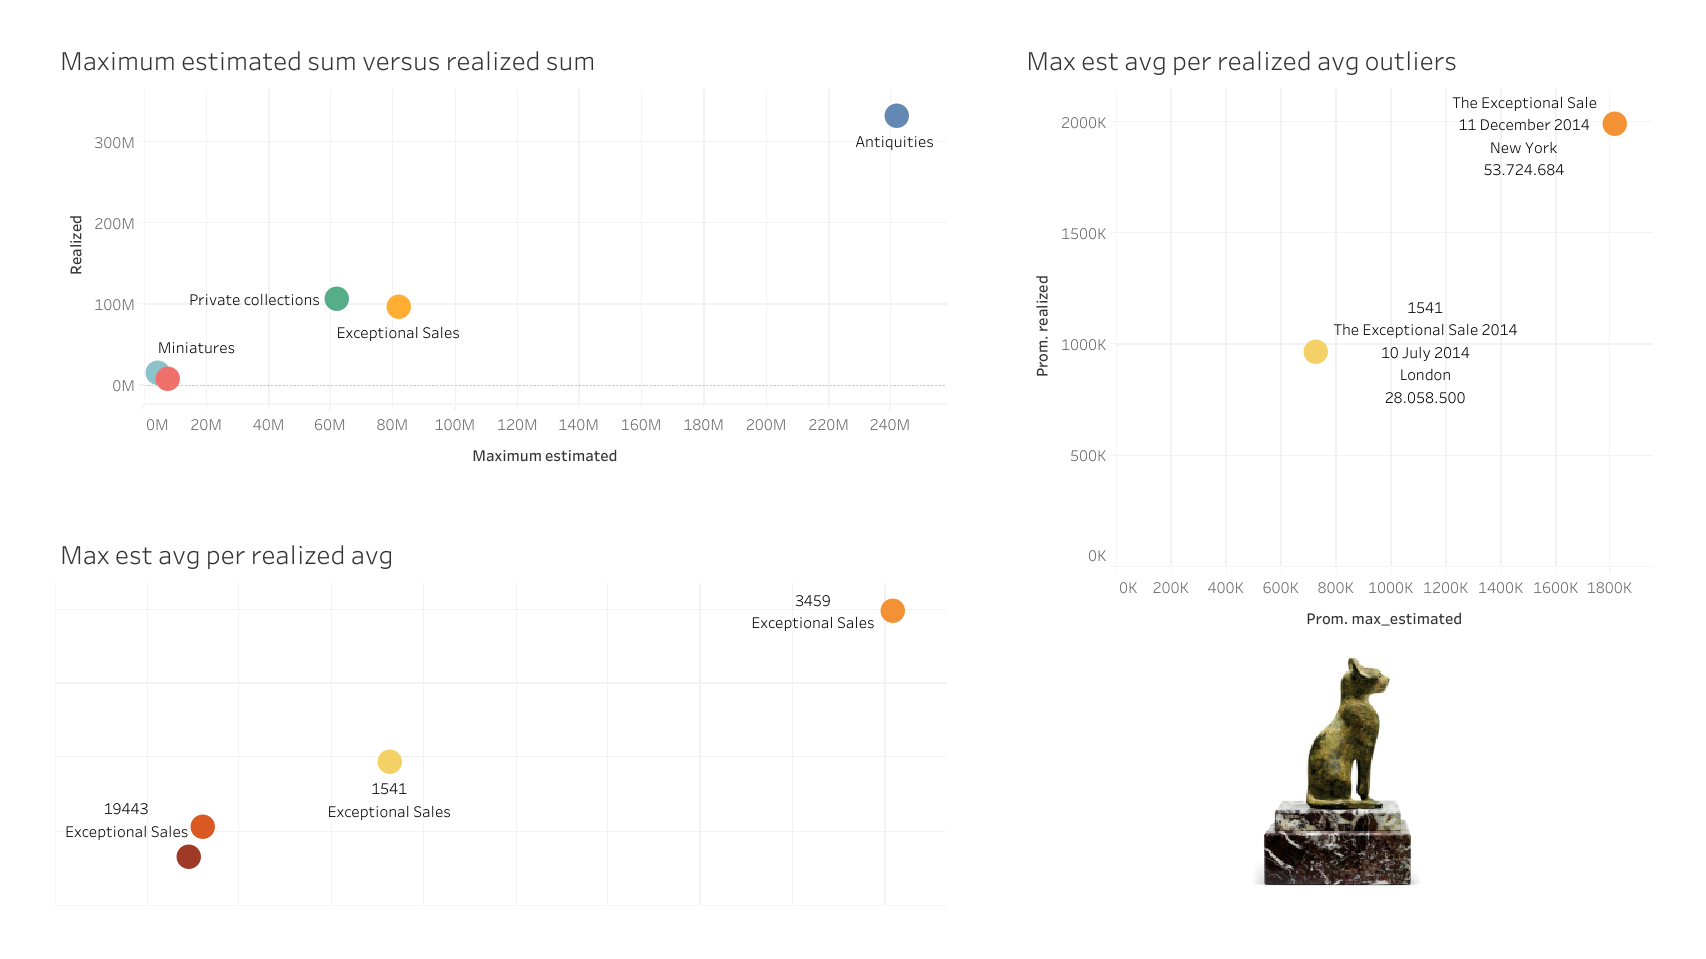

Layout of this report page (visuals, bound fields, positions):
{"tool":"tableau","page":{"name":"Exceptional sales","canvas":[1366,768],"ordinal":2},"visuals":[{"type":"blank","box":[8,8,1350,16.1]},{"type":"blank","box":[8,24.1,32,703.9]},{"type":"worksheet","title":"Max est x real sum","mark":"Automatic","rows":["realized"],"cols":["max_estimated"],"box":[40,24.1,721,359.9]},{"type":"blank","box":[761,24.1,52,16.1]},{"type":"worksheet","title":"Max est avg per realized avg outliers","mark":"Automatic","rows":["realized"],"cols":["max_estimated"],"box":[813,24.1,513,490.3]},{"type":"blank","box":[1326,24.1,32,703.9]},{"type":"blank","box":[40,384,773,35]},{"type":"worksheet","title":"Max est avg per realized avg","mark":"Automatic","rows":["realized"],"cols":["max_estimated"],"box":[40,419,721,309]},{"type":"image","param":"Image/an_egyptian_bronze_cat.jpg","box":[813,514.4,513,213.6]},{"type":"blank","box":[8,728,1350,32]}]}

Visuals, with their boxes in screenshot pixels (x1, y1, x2, y2), scaled from the page's 1366x768 canvas onto the 1706x959 screenshot:
blank: BBox(10, 10, 1696, 30)
blank: BBox(10, 30, 50, 909)
"Max est x real sum" worksheet: BBox(50, 30, 950, 480)
blank: BBox(950, 30, 1015, 50)
"Max est avg per realized avg outliers" worksheet: BBox(1015, 30, 1656, 642)
blank: BBox(1656, 30, 1696, 909)
blank: BBox(50, 480, 1015, 523)
"Max est avg per realized avg" worksheet: BBox(50, 523, 950, 909)
image: BBox(1015, 642, 1656, 909)
blank: BBox(10, 909, 1696, 949)
